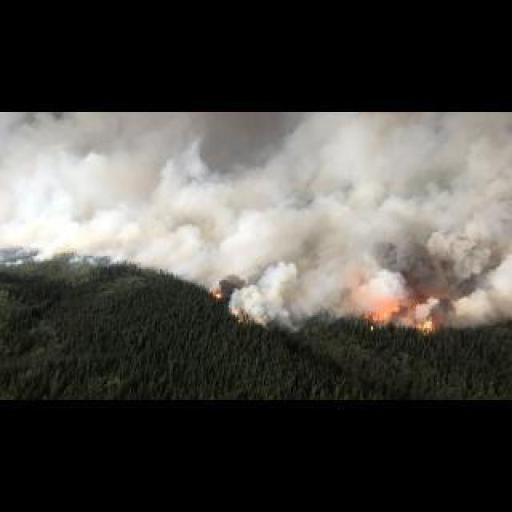smoke: (373, 304, 438, 334)
